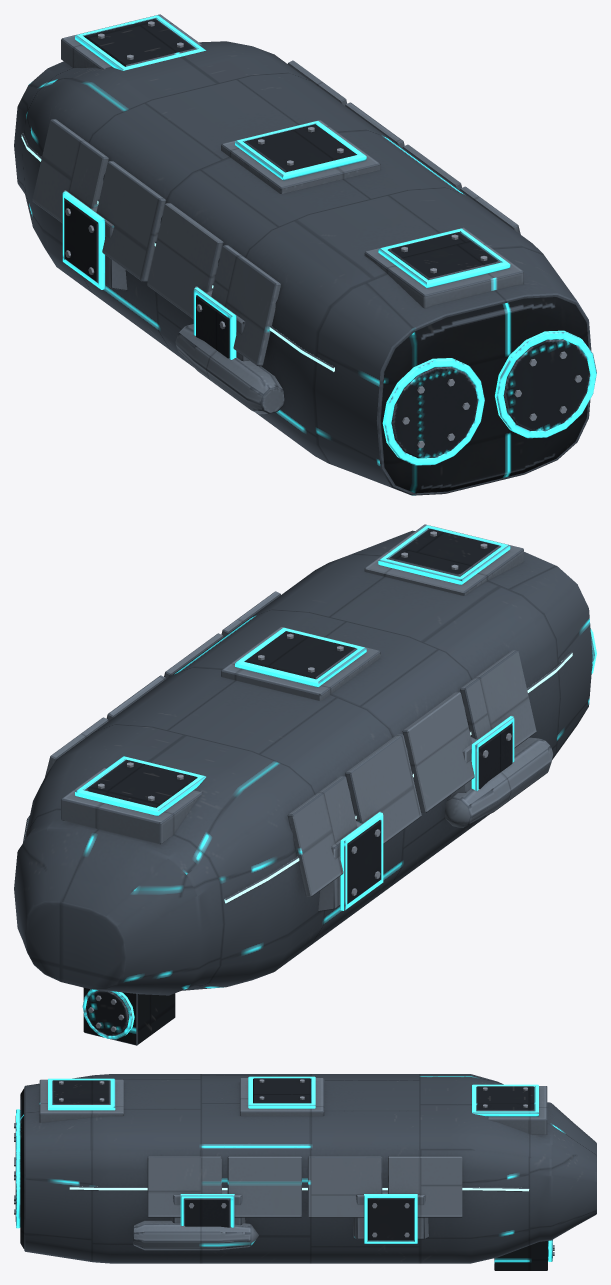
The model's file is casco_transporte_t3.fbx.
The picture shows the model from 3 angles, top to bottom: view 1: azimuth 30°, elevation 25°; view 2: azimuth 150°, elevation 25°; view 3: azimuth 270°, elevation 25°; orthographic projection. The views are drawn at different scales.
Parts seen in each view (by area): view 1: casco_transporte_t3; view 2: casco_transporte_t3; view 3: casco_transporte_t3, casco_transporte_t3_neon.
Boxes of the visible parts, x1=… form: casco_transporte_t3: x1=14, y1=14, x2=596, y2=495; casco_transporte_t3: x1=14, y1=524, x2=596, y2=1045; casco_transporte_t3: x1=14, y1=1074, x2=596, y2=1270; casco_transporte_t3_neon: x1=69, y1=1186, x2=529, y2=1191.
Size of the model in its own units: 7.28 by 5.67 by 17.31.
